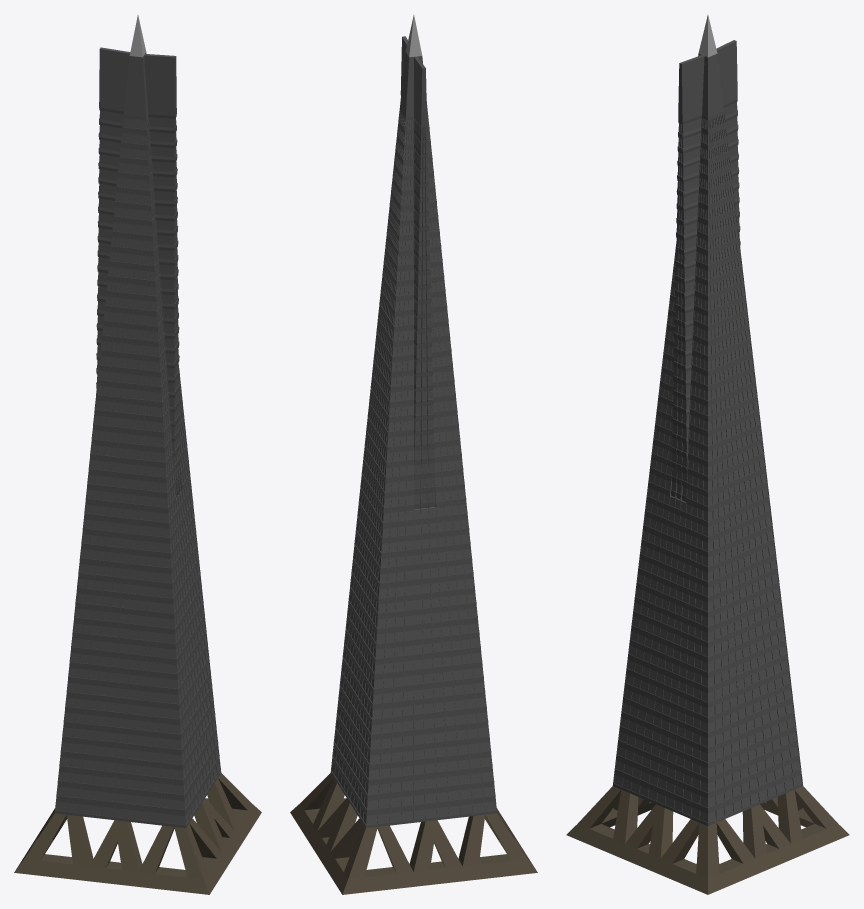
Rendered from building2.fbx.
3 renders of one model, left to right at view 1: azimuth 30°, elevation 25°; view 2: azimuth 150°, elevation 25°; view 3: azimuth 270°, elevation 25°, orthographic.
Visible parts, largest first — view 1: Cube; view 2: Cube; view 3: Cube.
Part boxes in pixels (<box>): Cube: <box>14,15,261,894</box>; Cube: <box>290,15,537,894</box>; Cube: <box>566,15,849,894</box>.
Bounding box in the file's own units: 4212 × 13451 × 4212.
